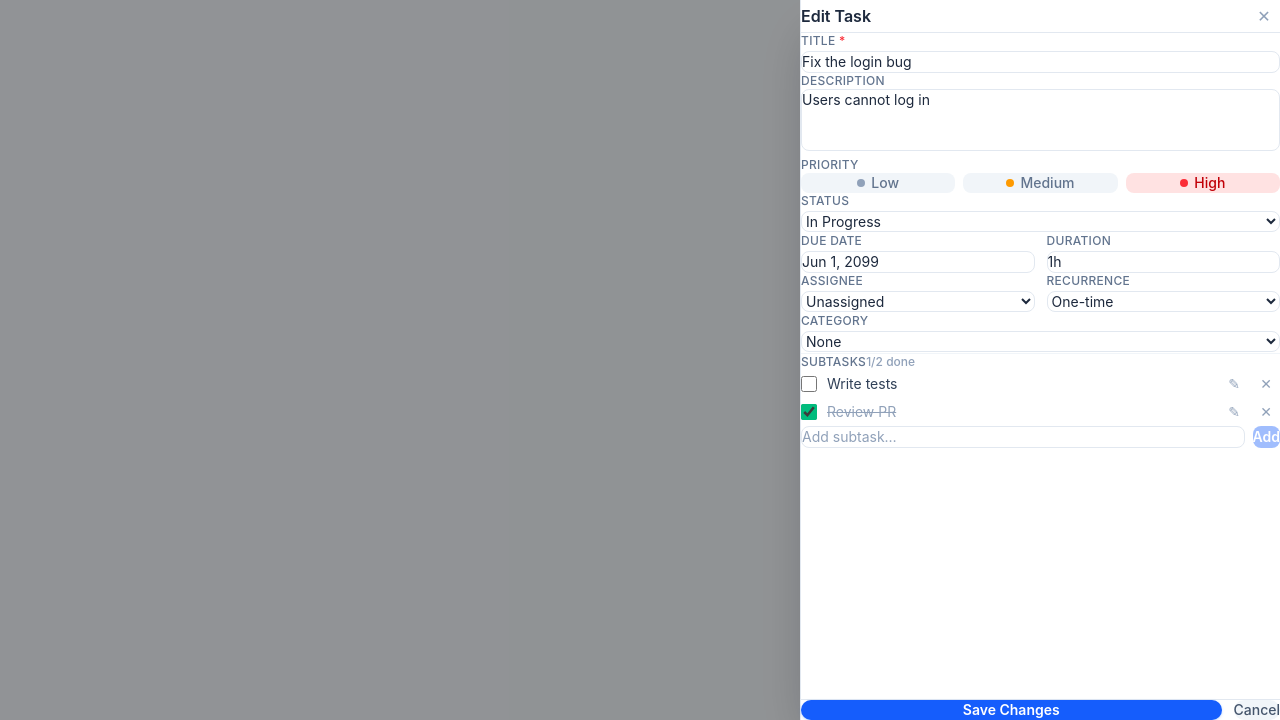
TaskPanel — subtask row interactions › clicking edit button on a subtask shows the editing form
Click the button named "Edit subtask: Write tests": (1234, 384) [1220,370,1248,398]
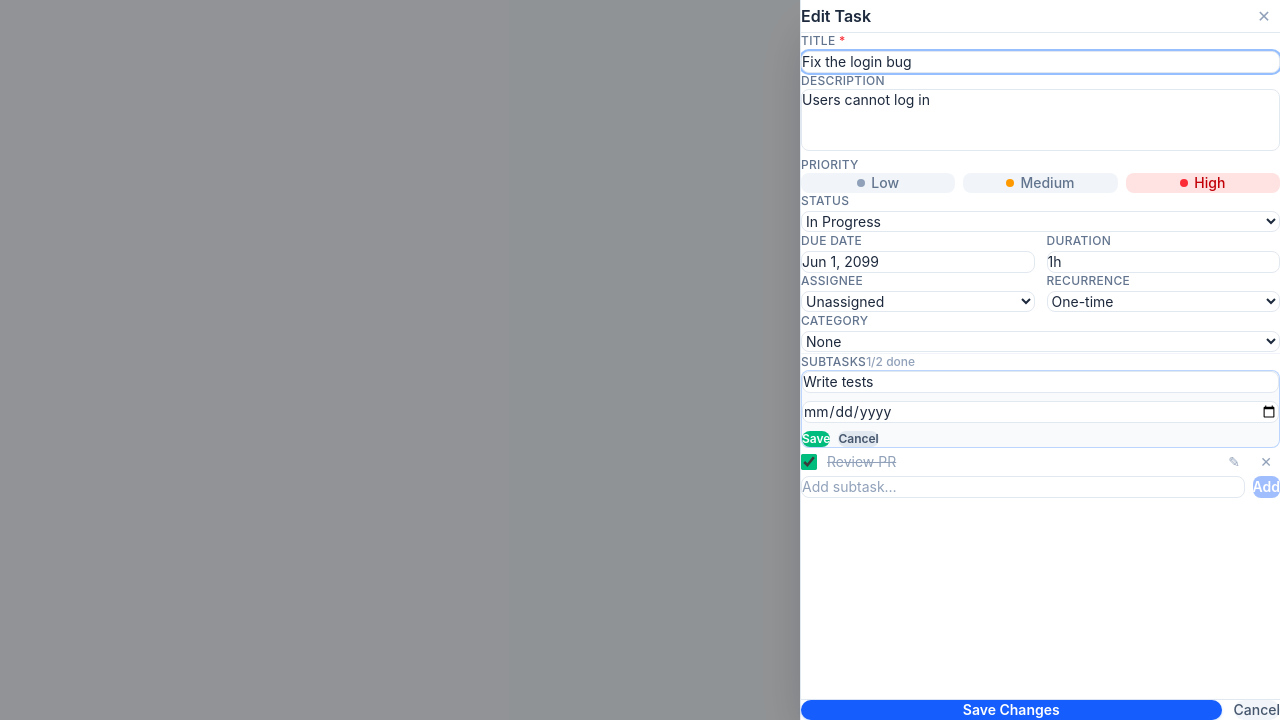
Now the field showing "Write tests" below "Subtasks" is shown, box [802,371,1279,393]
